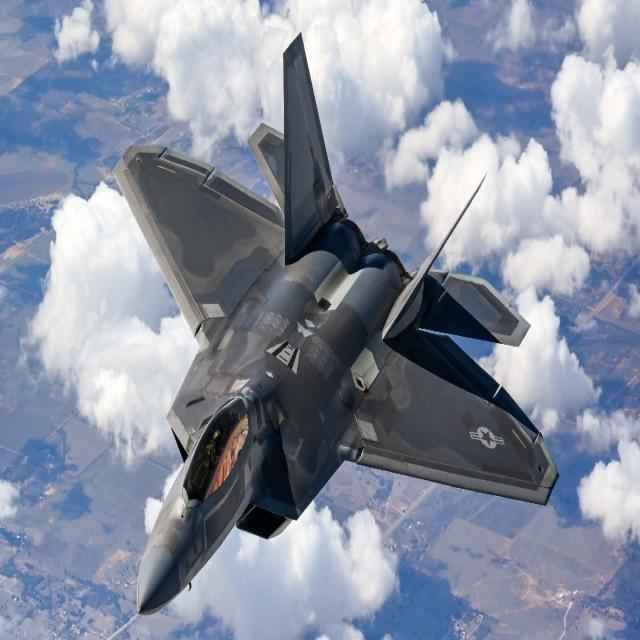F22: (110, 33, 558, 615)
